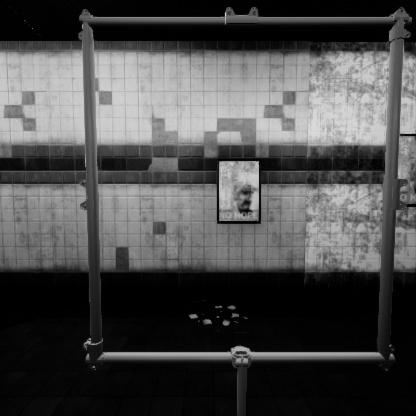gate: (82, 46, 416, 403)
